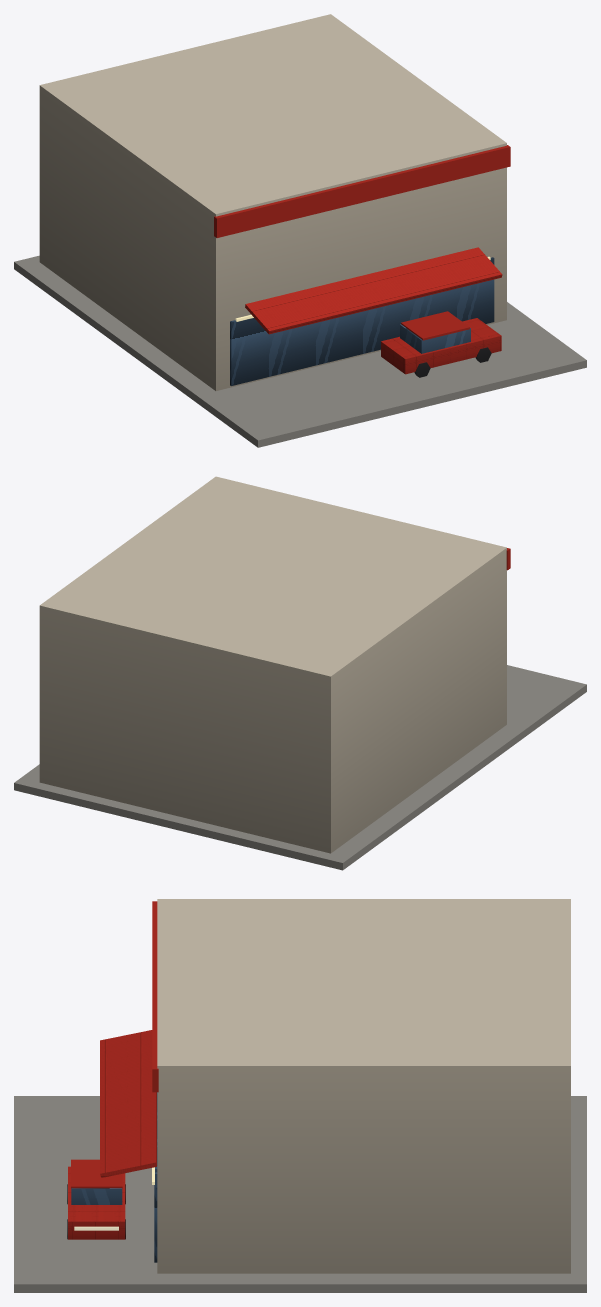
The model's file is loja_1.glb.
3 views of the same model, one above another, from view 1: azimuth 30°, elevation 25°; view 2: azimuth 150°, elevation 25°; view 3: azimuth 270°, elevation 25° (orthographic). The views are drawn at different scales.
Parts seen in each view (by area): view 1: loja_1_liso, loja_1; view 2: loja_1_liso; view 3: loja_1_liso, loja_1.
Boxes of the visible parts, box(x1,y1,x2,y2) form: loja_1_liso: box(14, 14, 586, 447); loja_1: box(230, 247, 502, 385); loja_1_liso: box(14, 476, 586, 870); loja_1_liso: box(14, 899, 586, 1292); loja_1: box(68, 1030, 157, 1262).
Bounding box in the file's own units: 14 × 7.5 × 18.
Materials: 6 (3 with a texture image).
